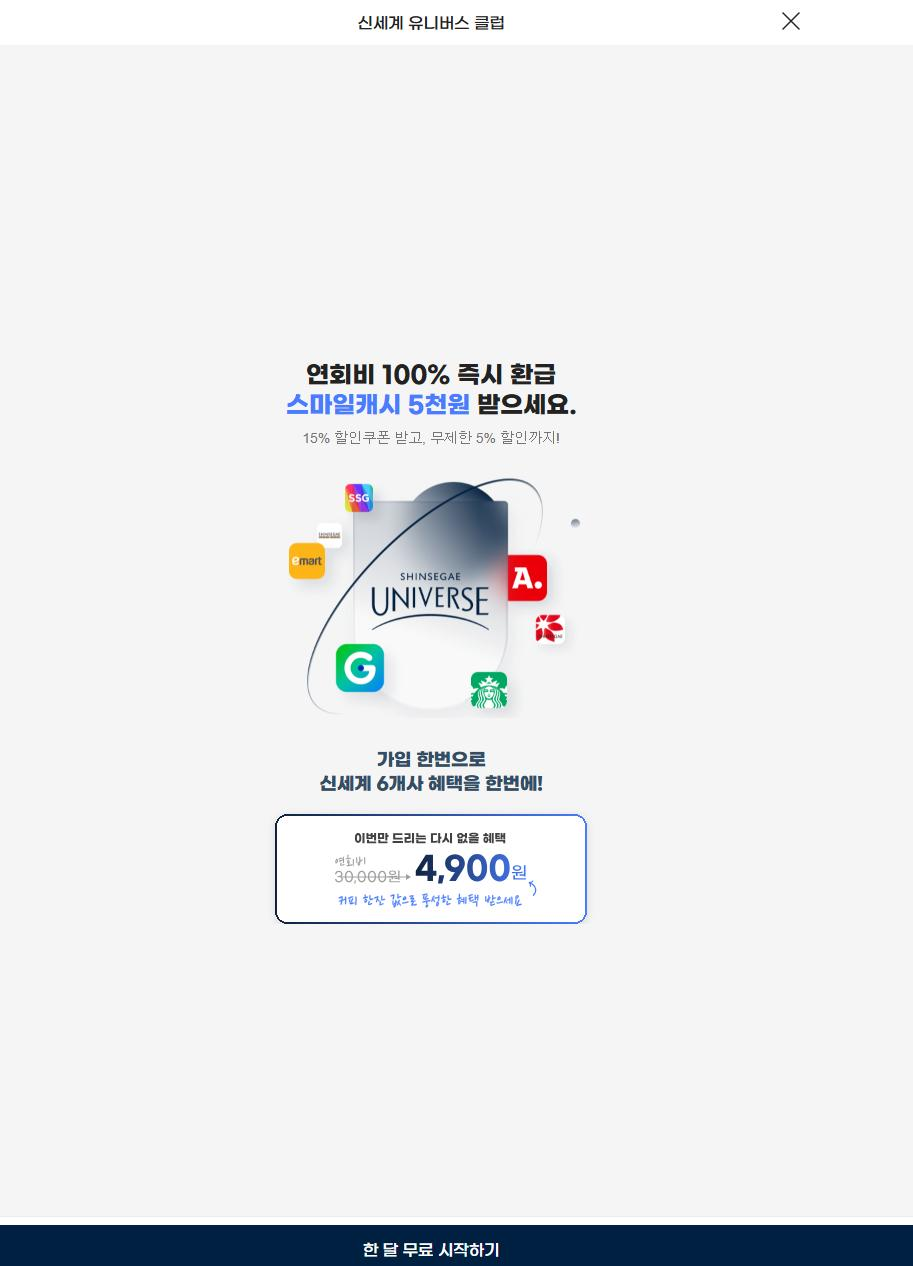button: (7, 1222, 913, 1266), (758, 0, 823, 45)
popup: (0, 0, 913, 1266)
